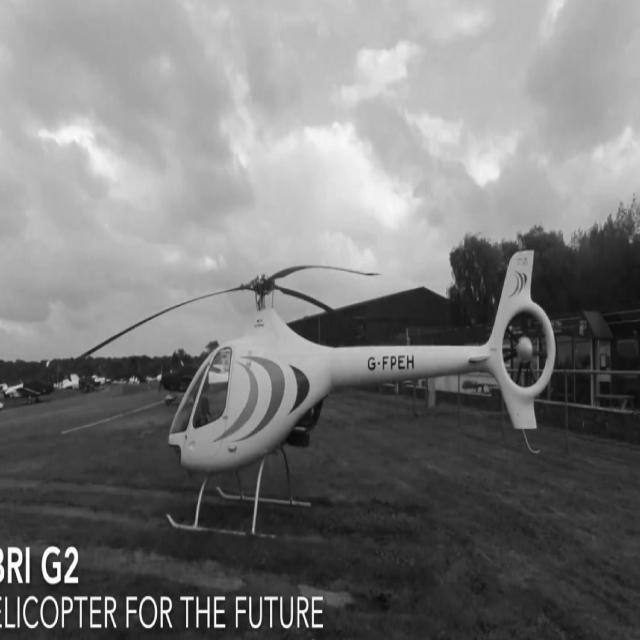helicopter: (62, 255, 560, 530)
